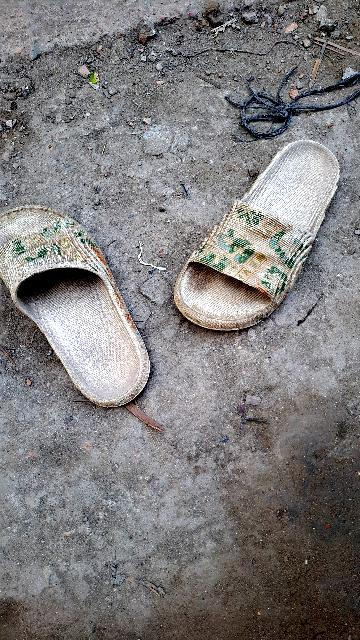sandal: (176, 126, 353, 352), (0, 183, 167, 414)
